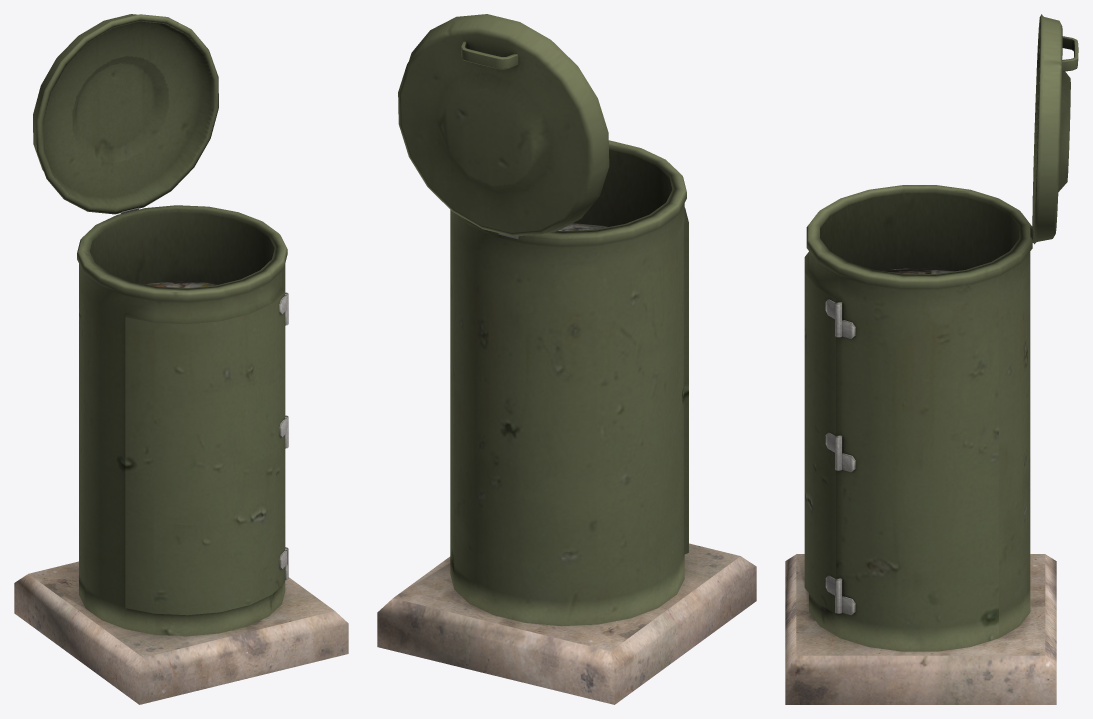
Rendered from muelleimer_offen_0001b.fbx.
3 renders of one model, left to right at view 1: azimuth 30°, elevation 25°; view 2: azimuth 150°, elevation 25°; view 3: azimuth 270°, elevation 25°, orthographic. The views are drawn at different scales.
Parts seen in each view (by area): view 1: Mesh; view 2: Mesh; view 3: Mesh.
Boxes of the visible parts, left/top/right/bottom form: Mesh: left=14, top=14, right=348, bottom=704; Mesh: left=377, top=14, right=756, bottom=704; Mesh: left=785, top=14, right=1078, bottom=704.
Size of the model in its own units: 61.27 by 161 by 68.61.
